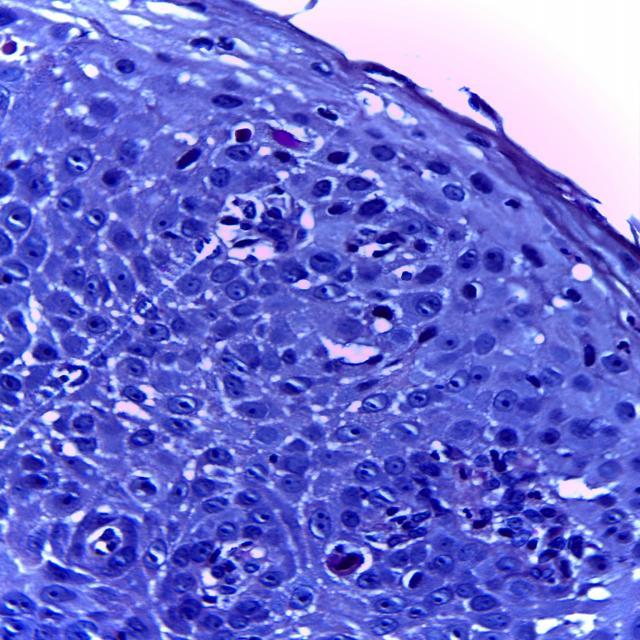Multiple Nucleol: (167, 258, 252, 304), (303, 504, 337, 545), (61, 144, 98, 180), (1, 585, 38, 618), (218, 368, 253, 402), (194, 445, 237, 470), (273, 473, 311, 496), (476, 610, 513, 630)
